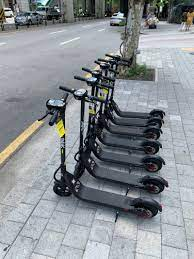guide_blocks: (183, 46, 194, 50)
kick_body: (80, 187, 134, 211), (108, 125, 146, 136), (117, 118, 146, 126), (123, 111, 151, 117)
kick_handler: (60, 85, 107, 105), (39, 93, 69, 124), (73, 75, 114, 89), (82, 67, 116, 81), (105, 52, 130, 62)
kick_wheel: (137, 197, 158, 218), (145, 176, 165, 194), (54, 180, 73, 197), (146, 154, 161, 173), (74, 159, 86, 177), (146, 139, 160, 154), (146, 127, 161, 140), (151, 108, 164, 119), (149, 119, 164, 128)
